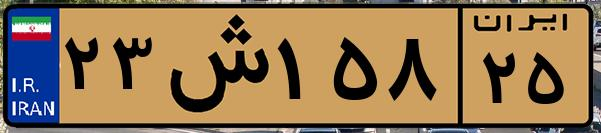1: (270, 28, 330, 110)
2: (57, 26, 110, 100), (475, 38, 525, 113)
3: (110, 28, 158, 98)
5: (330, 28, 385, 110), (525, 38, 570, 115)
8: (385, 28, 445, 110)
ش: (158, 12, 270, 120)
